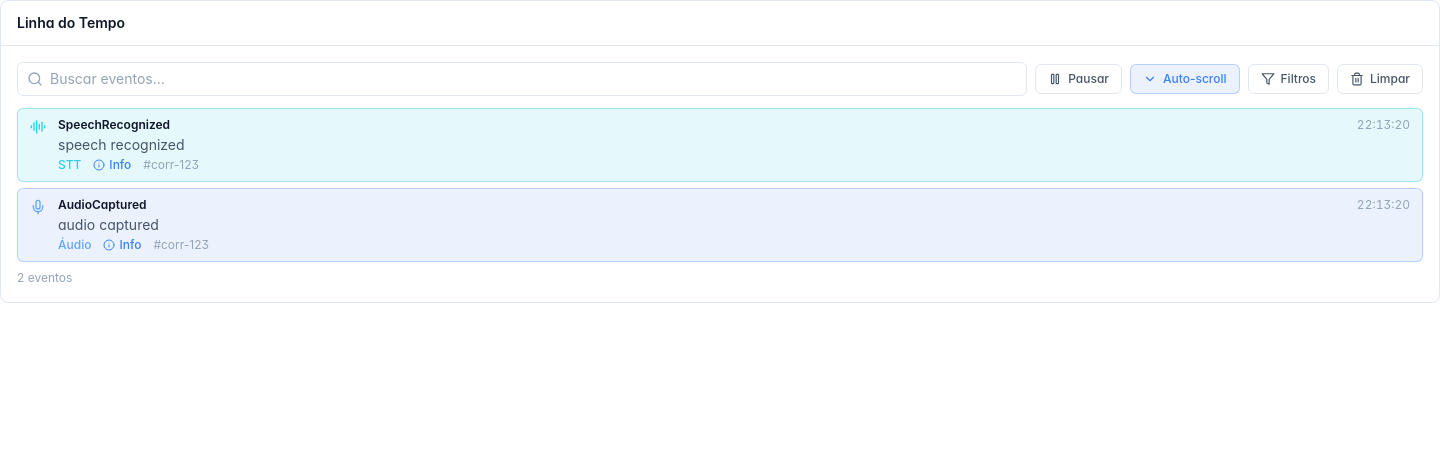
Test: TimelinePanel › filtros de categoria funcionam
Note: Abre filtros
Click the button with test id "timeline-filter-btn": (1288, 79) [1248, 64, 1329, 94]
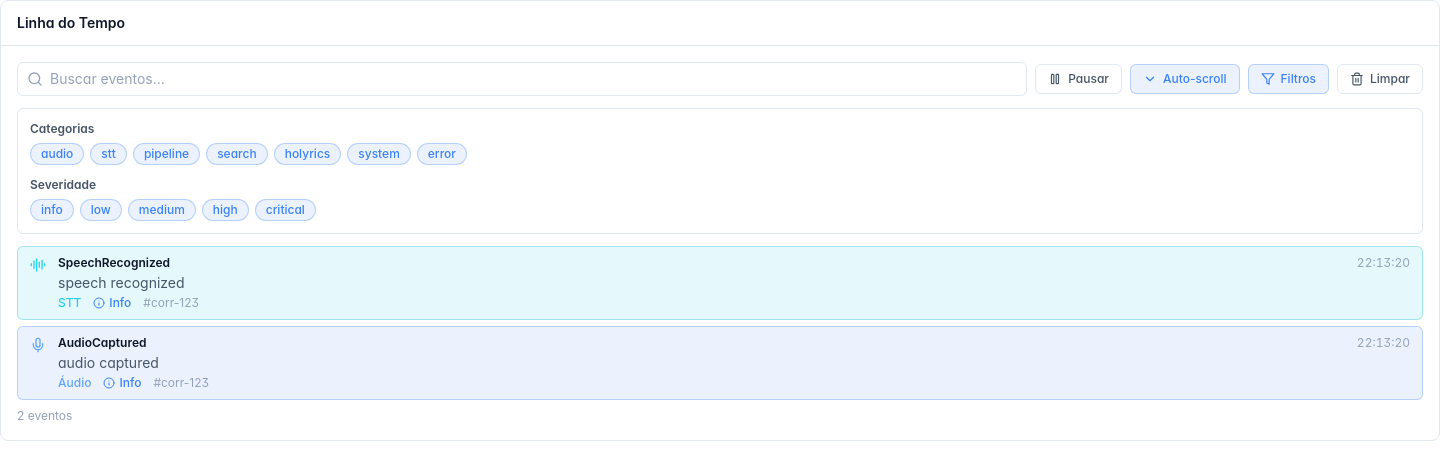
Note: Desativa categoria audio
Click the button with test id "filter-category-audio": (57, 154) [30, 143, 84, 165]
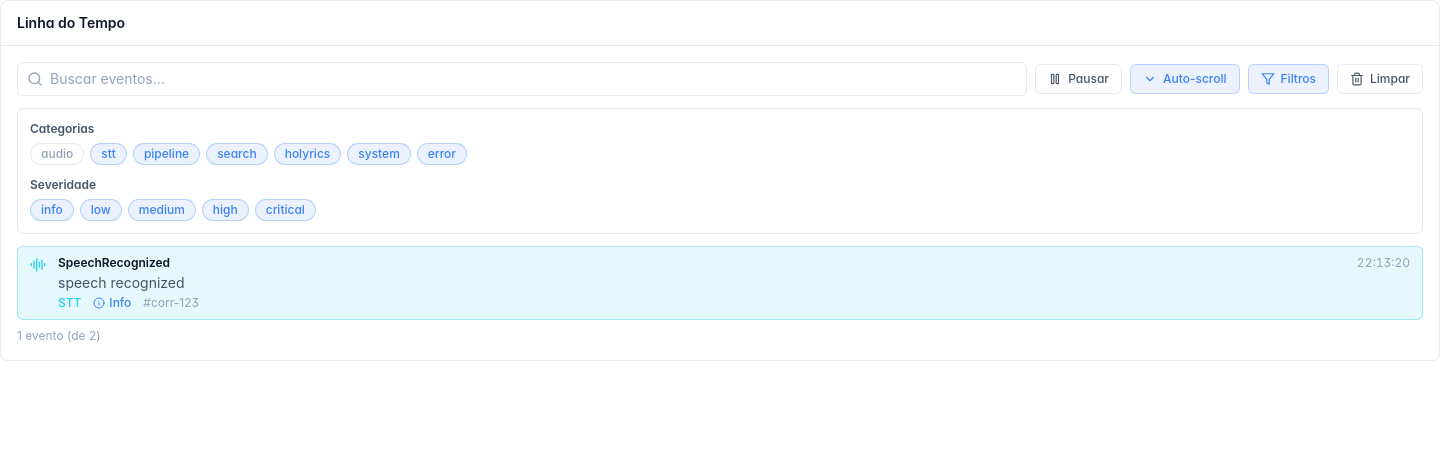
Expected: the number of elements with test id "event-card" is 1, [17, 246, 1423, 320]
